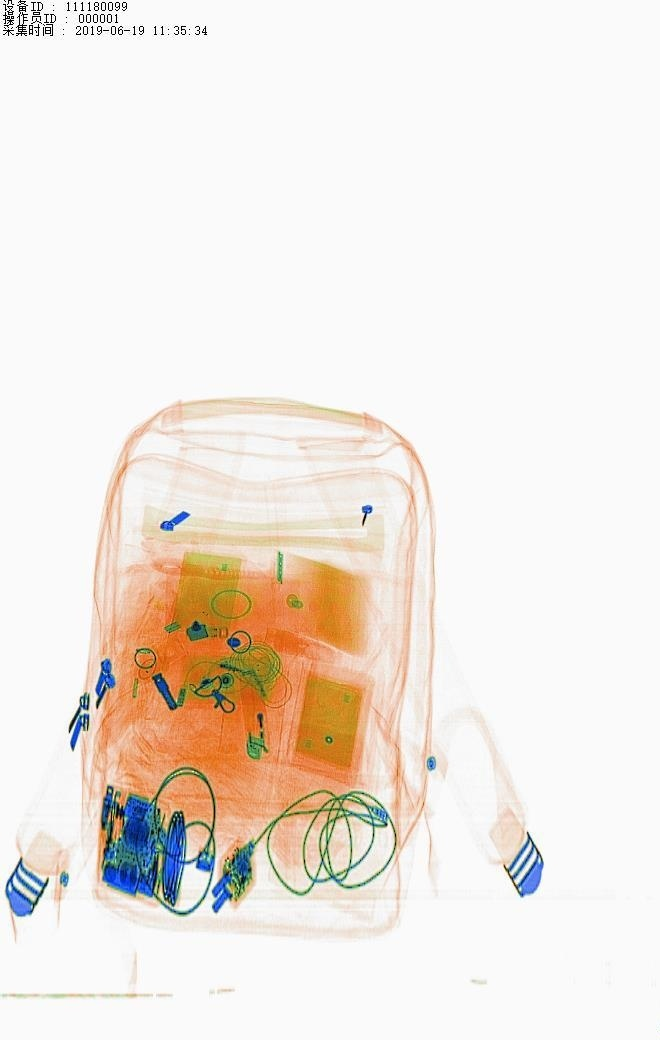NonmetallicFire: (226, 654, 279, 770)
